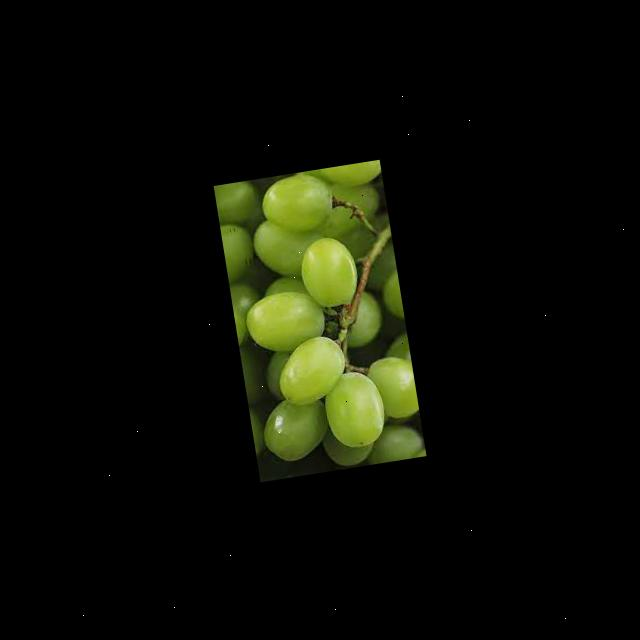grape: (214, 160, 426, 481)
